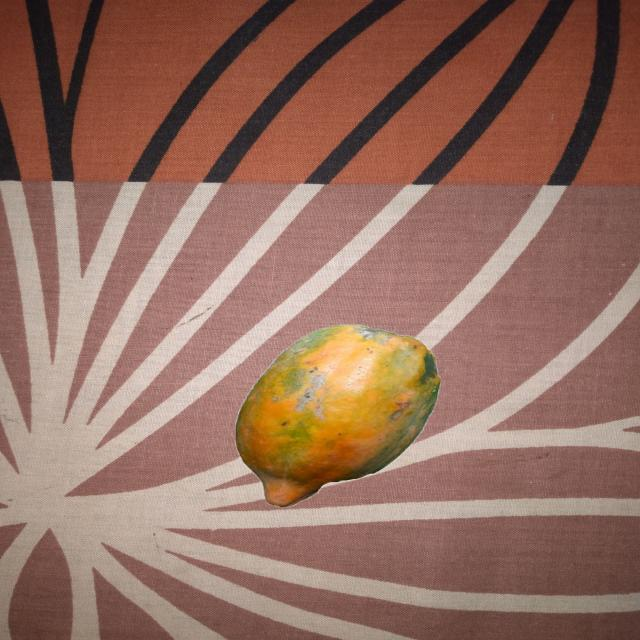Pepaya rippen: (221, 318, 441, 516)
